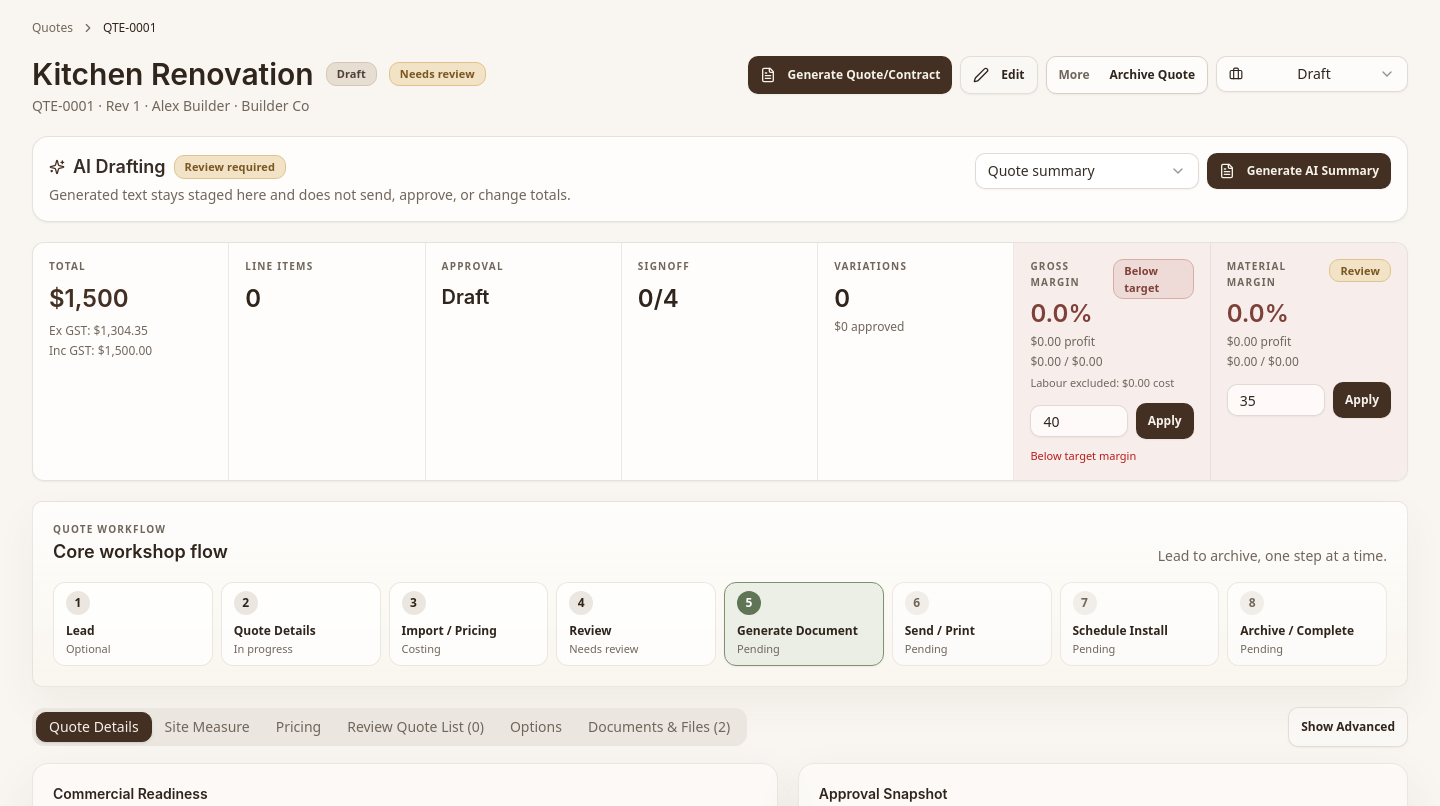
Test: QuoteDetail › hides .bak files by default and reveals them on demand
This screenshot has width=1440, height=806.
Expected: the heading "Kitchen Renovation" is shown, [32,56,314,92]
Click the tab "Documents & Files (2)" at (659, 727), box [575,712,743,742]
(page scrolled)
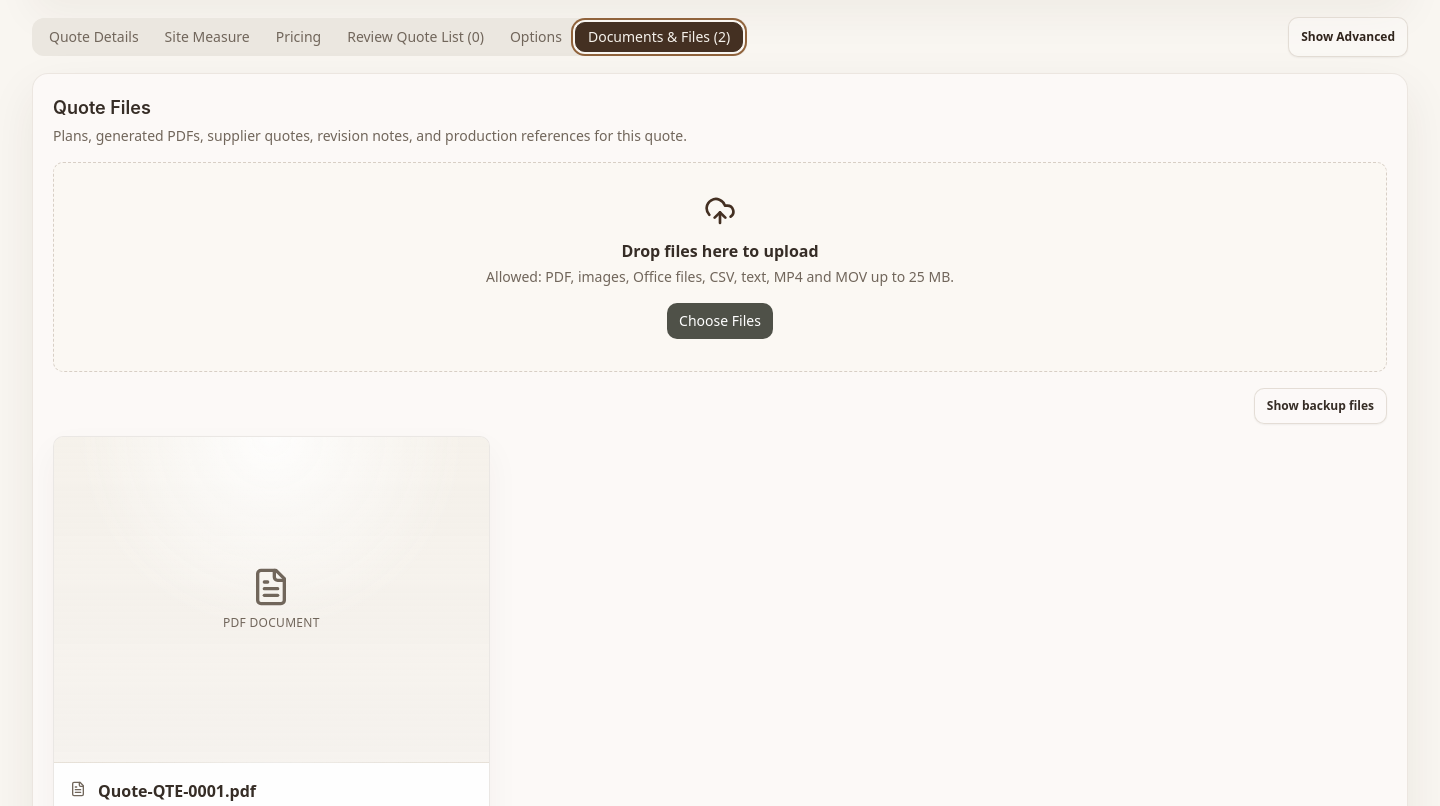
Expected: the text ".bak-" is not shown
Expected: the text "Quote-QTE-0001.pdf" is shown, [98,780,256,802]
Click the button "Show backup files" at (1320, 406), box [1254,388,1387,424]
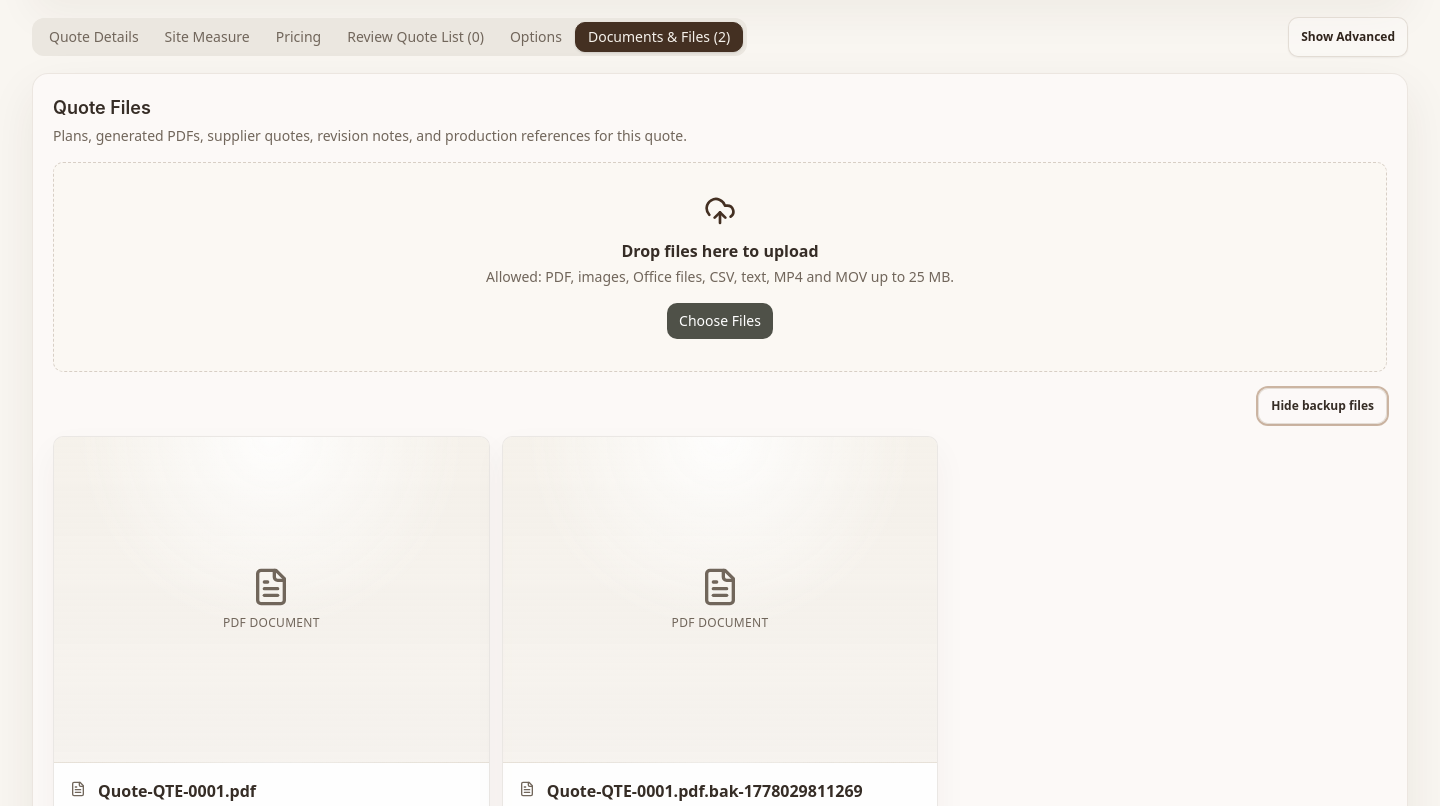
Expected: the text "Quote-QTE-0001.pdf.bak-1778029811269" is shown, [547,780,863,802]
